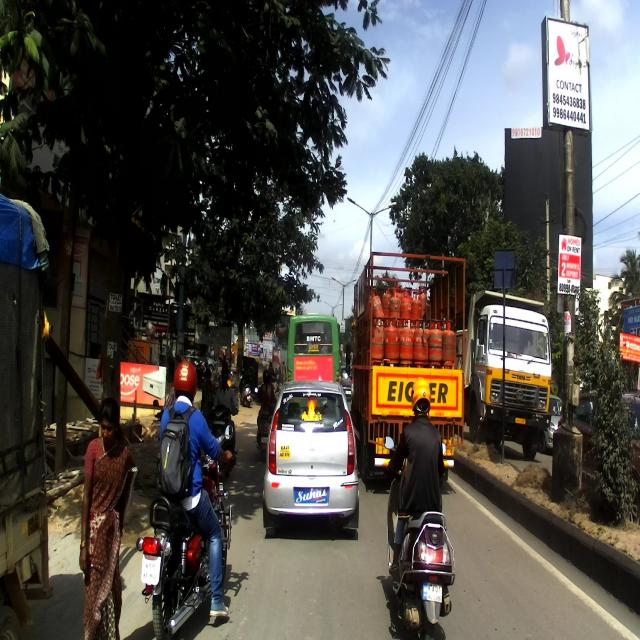Car_TATA: (263, 380, 359, 538)
motorcycle_RoyalEnfield: (136, 424, 234, 638)
scooter: (378, 434, 456, 638), (208, 401, 237, 476)
truck: (345, 248, 467, 490), (461, 288, 554, 463)
